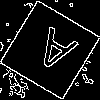A: (25, 25, 79, 83)
